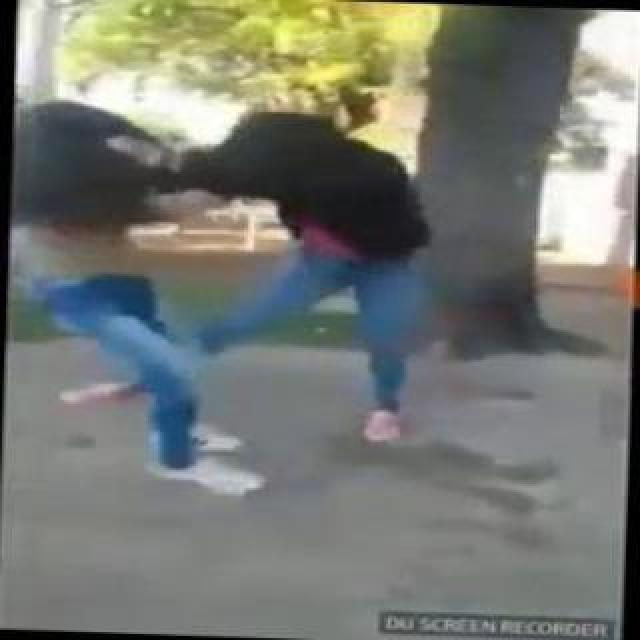fight: (6, 44, 464, 498)
